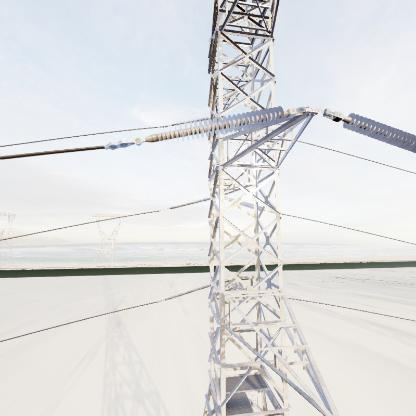insulator: (141, 105, 285, 146), (339, 111, 416, 154)
